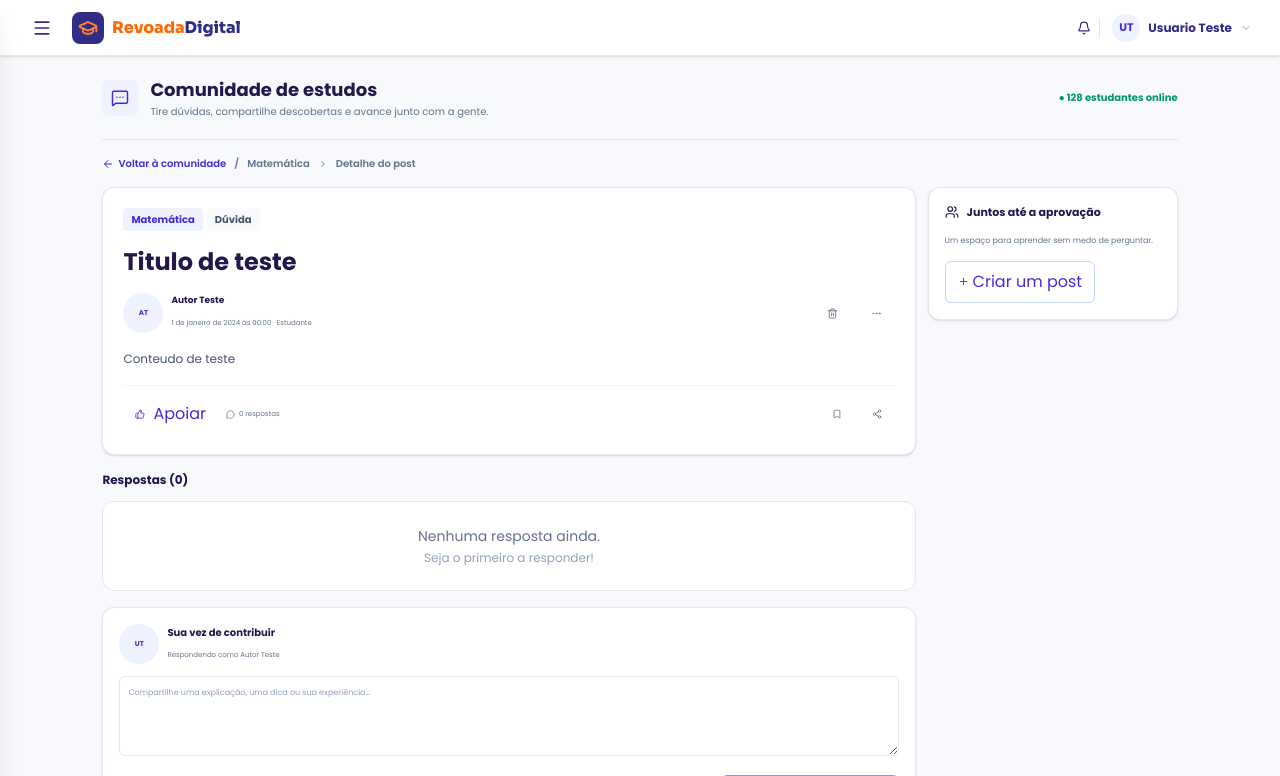
PostDetalhe - exclusao de post › confirma a exclusao e navega de volta para a comunidade
Click the button named "Excluir post": (833, 313) [815,295,851,331]
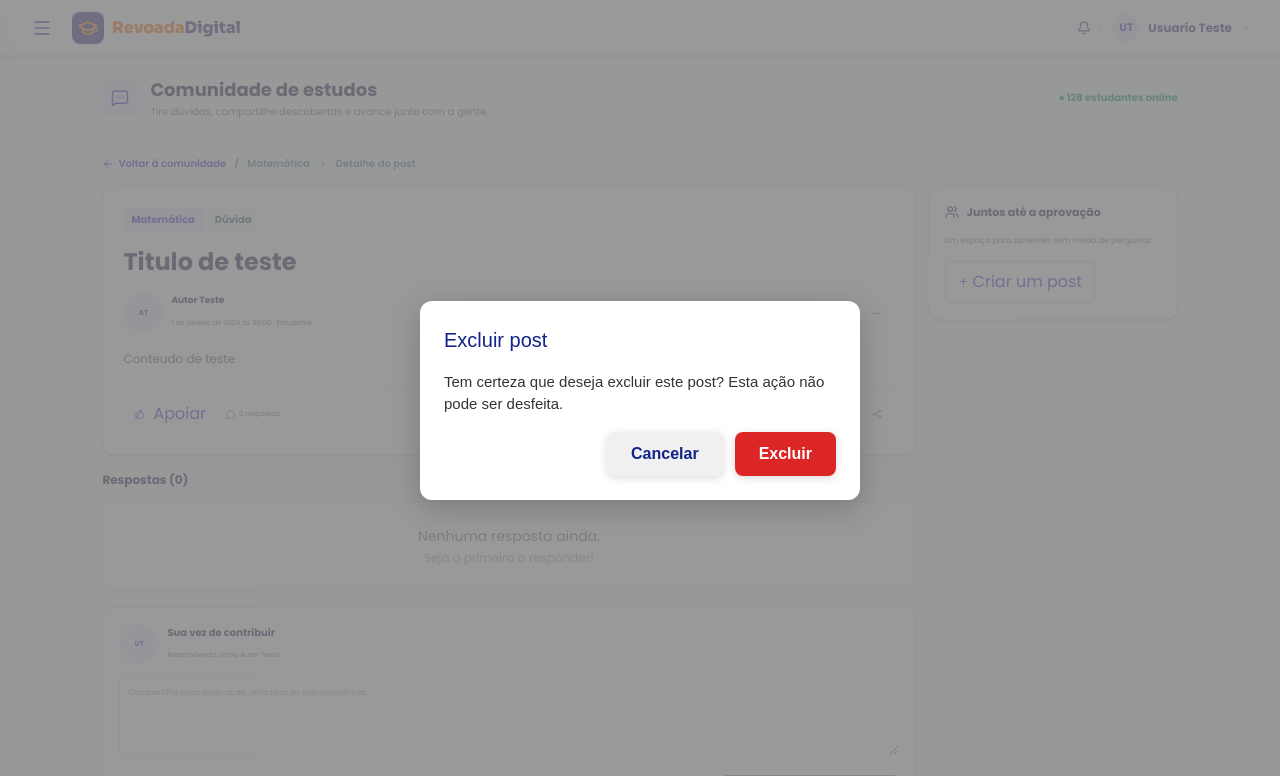
Click the button "Excluir": (785, 454) [735,432,836,476]
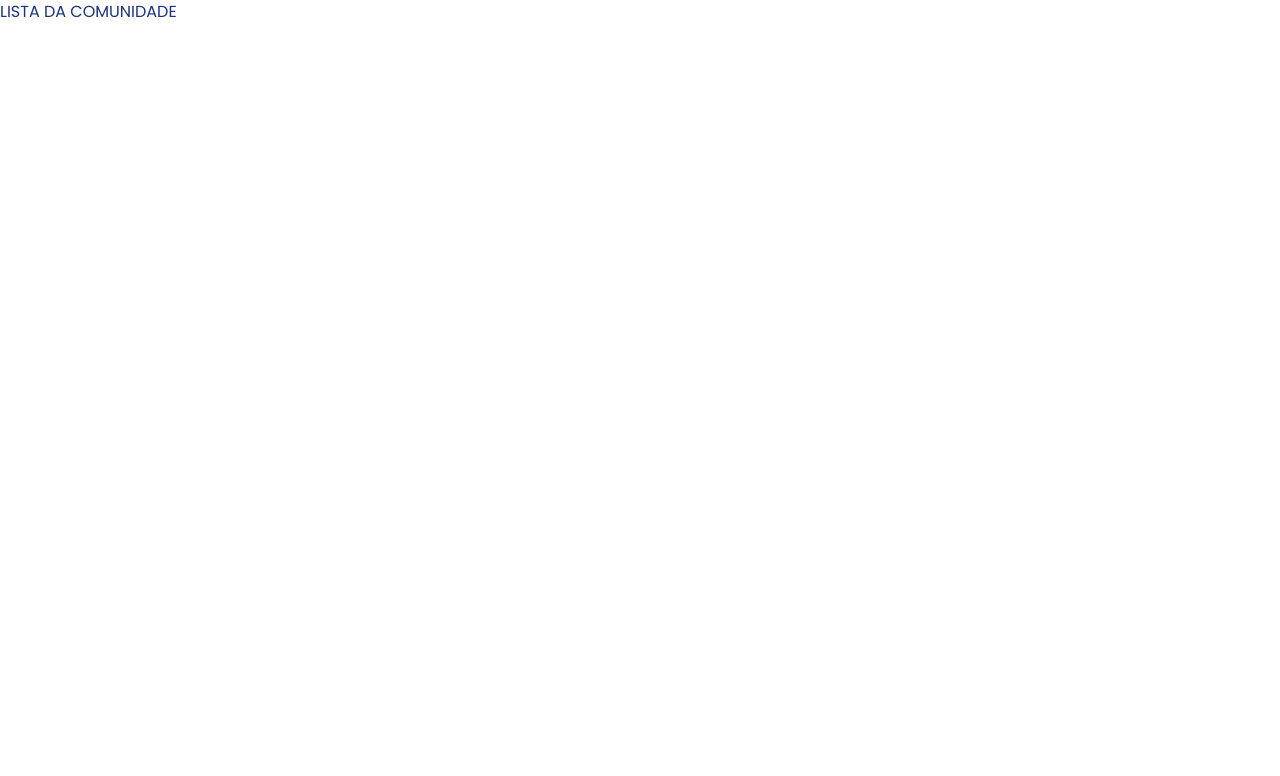
Now the text "LISTA DA COMUNIDADE" is shown, box [0,0,177,23]
